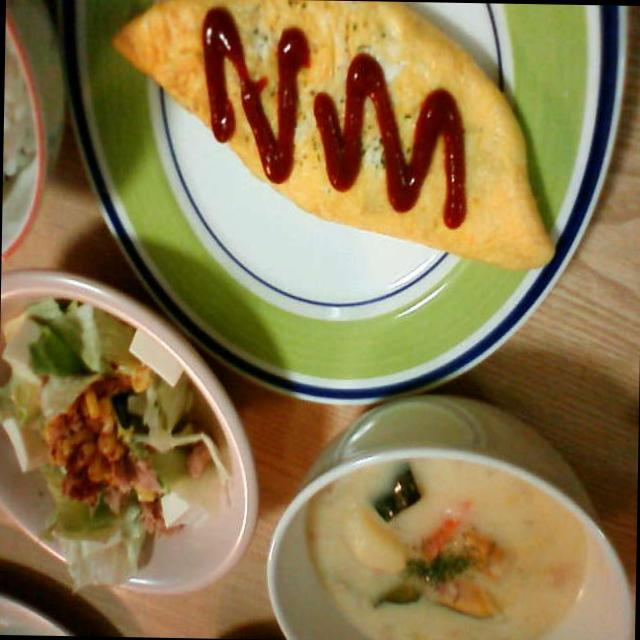Green Salad: (0, 324, 210, 583)
Omelet: (98, 5, 564, 273)
